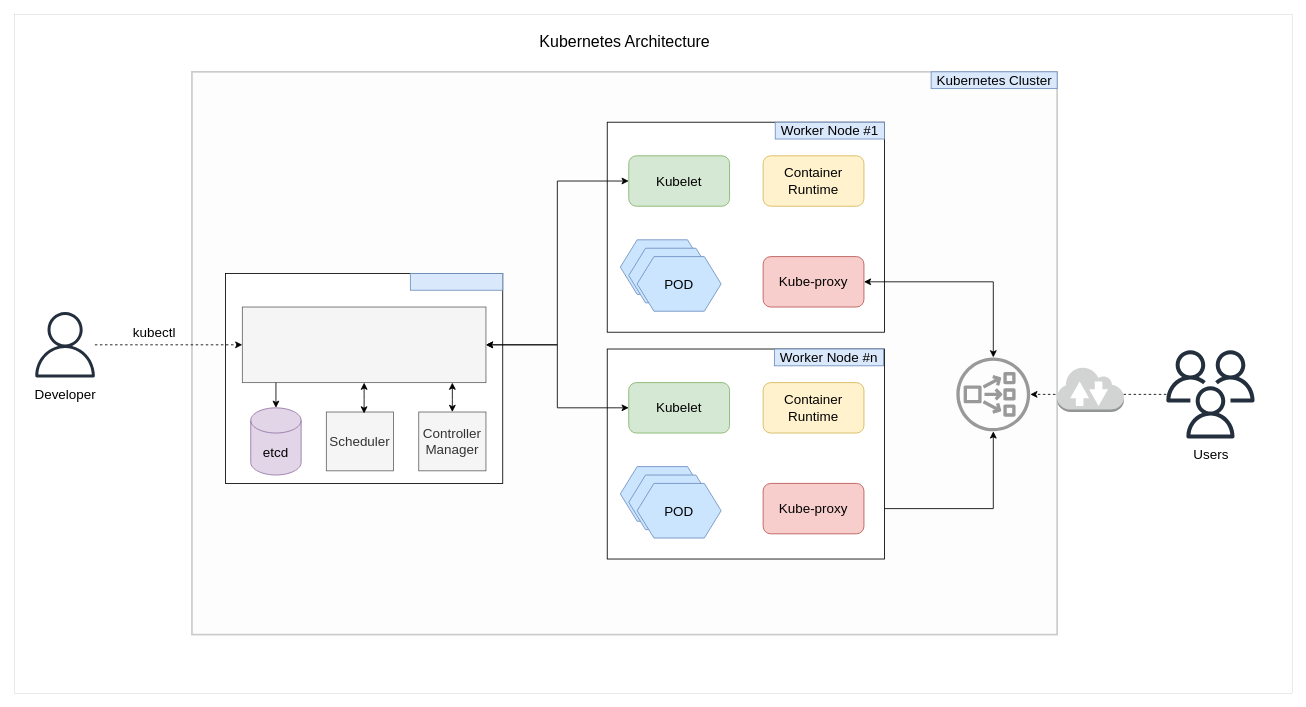
This 1306x707 diagram has some shape labels left out. Each missing label, with the centre of its shape:
API Server: the point at 364,344
Master Node: the point at 456,281
